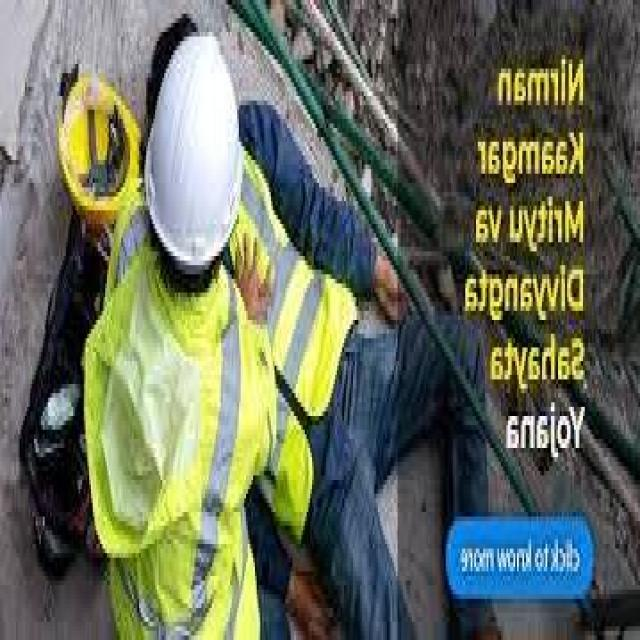Reflective-Jacket: (80, 238, 266, 631)
Safety-Helmet: (143, 28, 244, 274)
